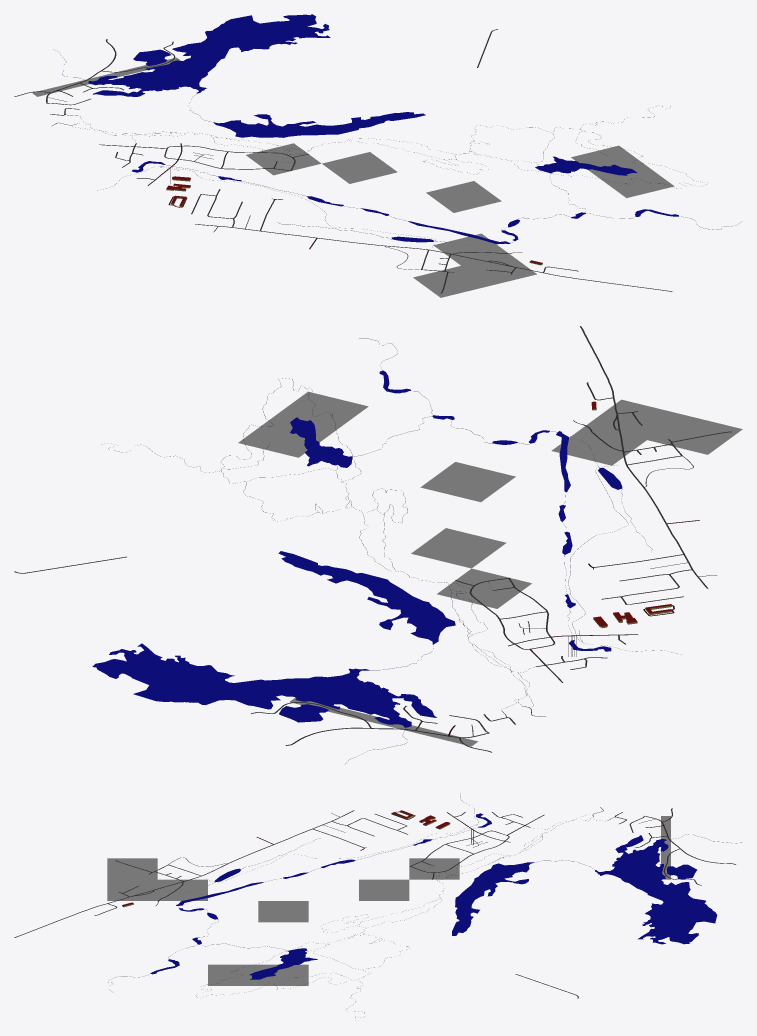
Rendered from map_-63.61-44.59--63.58-44.62.obj.
The picture shows the model from 3 angles, top to bottom: view 1: azimuth 30°, elevation 25°; view 2: azimuth 150°, elevation 25°; view 3: azimuth 270°, elevation 25°; orthographic projection. The views are drawn at different scales.
Visible parts, largest first — view 1: Water1234, Water1274, SurfaceArea1329, SurfaceArea1319, SurfaceArea1314, SurfaceArea1302, SurfaceArea1308, SurfaceArea1315, SurfaceArea1364, SurfaceArea1365, Water1248, Water Flat Lake (+1 smaller); view 2: Water1234, Water1274, SurfaceArea1329, SurfaceArea1319, SurfaceArea1302, SurfaceArea1308, SurfaceArea1314, SurfaceArea1364, SurfaceArea1315, SurfaceArea1365, Water1248, Water Flat Lake; view 3: Water1234, Water1274, SurfaceArea1329, SurfaceArea1319, SurfaceArea1302, SurfaceArea1314, SurfaceArea1308, SurfaceArea1315, SurfaceArea1364, Water1248, SurfaceArea1365, Water Flat Lake (+1 smaller).
Part boxes in pixels (box(x1,y1,x2,y2)): Water1234: box(88, 14, 330, 96); Water1274: box(213, 112, 425, 137); SurfaceArea1329: box(426, 181, 501, 212); SurfaceArea1319: box(322, 152, 397, 183); SurfaceArea1314: box(461, 254, 536, 285); SurfaceArea1302: box(413, 266, 488, 297); SurfaceArea1308: box(246, 143, 321, 175); SurfaceArea1315: box(434, 233, 508, 265); SurfaceArea1364: box(599, 166, 674, 197); SurfaceArea1365: box(571, 145, 646, 177); Water1248: box(124, 58, 215, 90); Water Flat Lake: box(535, 156, 636, 175); Water1234: box(92, 643, 436, 727); Water1274: box(278, 551, 455, 644); SurfaceArea1329: box(420, 462, 515, 502); SurfaceArea1319: box(411, 528, 506, 568); SurfaceArea1302: box(647, 414, 742, 454); SurfaceArea1308: box(437, 568, 531, 608); SurfaceArea1314: box(586, 399, 681, 439); SurfaceArea1364: box(273, 391, 368, 431); SurfaceArea1315: box(551, 425, 646, 465); SurfaceArea1365: box(238, 417, 333, 457); Water1248: box(280, 673, 395, 713); Water Flat Lake: box(290, 417, 352, 467); Water1234: box(595, 835, 717, 944); Water1274: box(452, 862, 534, 935); SurfaceArea1329: box(258, 901, 308, 922); SurfaceArea1319: box(359, 879, 409, 900); SurfaceArea1302: box(107, 858, 157, 879); SurfaceArea1314: box(107, 879, 157, 900); SurfaceArea1308: box(409, 858, 459, 879); SurfaceArea1315: box(157, 879, 207, 900); SurfaceArea1364: box(208, 964, 258, 985); Water1248: box(605, 852, 664, 889); SurfaceArea1365: box(258, 964, 308, 985); Water Flat Lake: box(249, 948, 317, 979).
Bounding box in the file's own units: 3217 × 108 × 4347.
